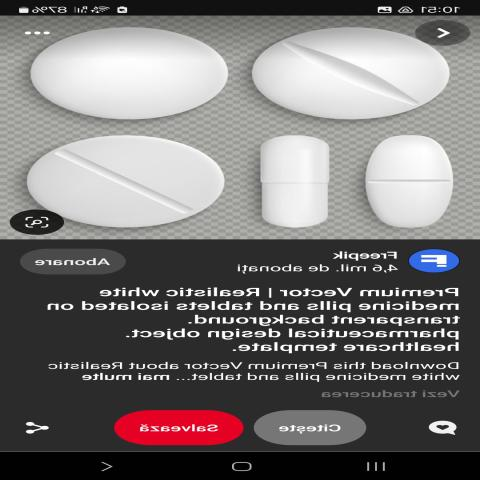Pill: (2, 22, 236, 128), (18, 125, 236, 237), (237, 20, 453, 123), (344, 126, 467, 236), (232, 125, 336, 236)
